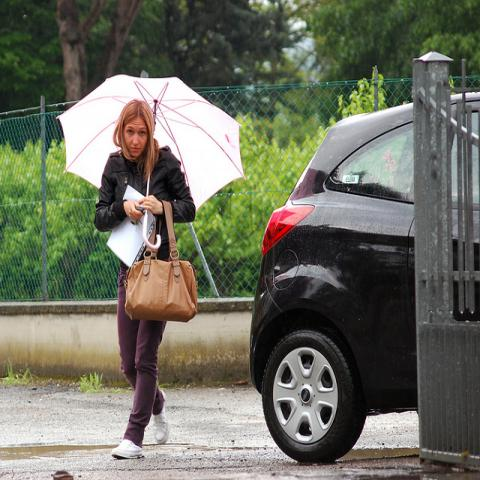car: (247, 93, 479, 466)
